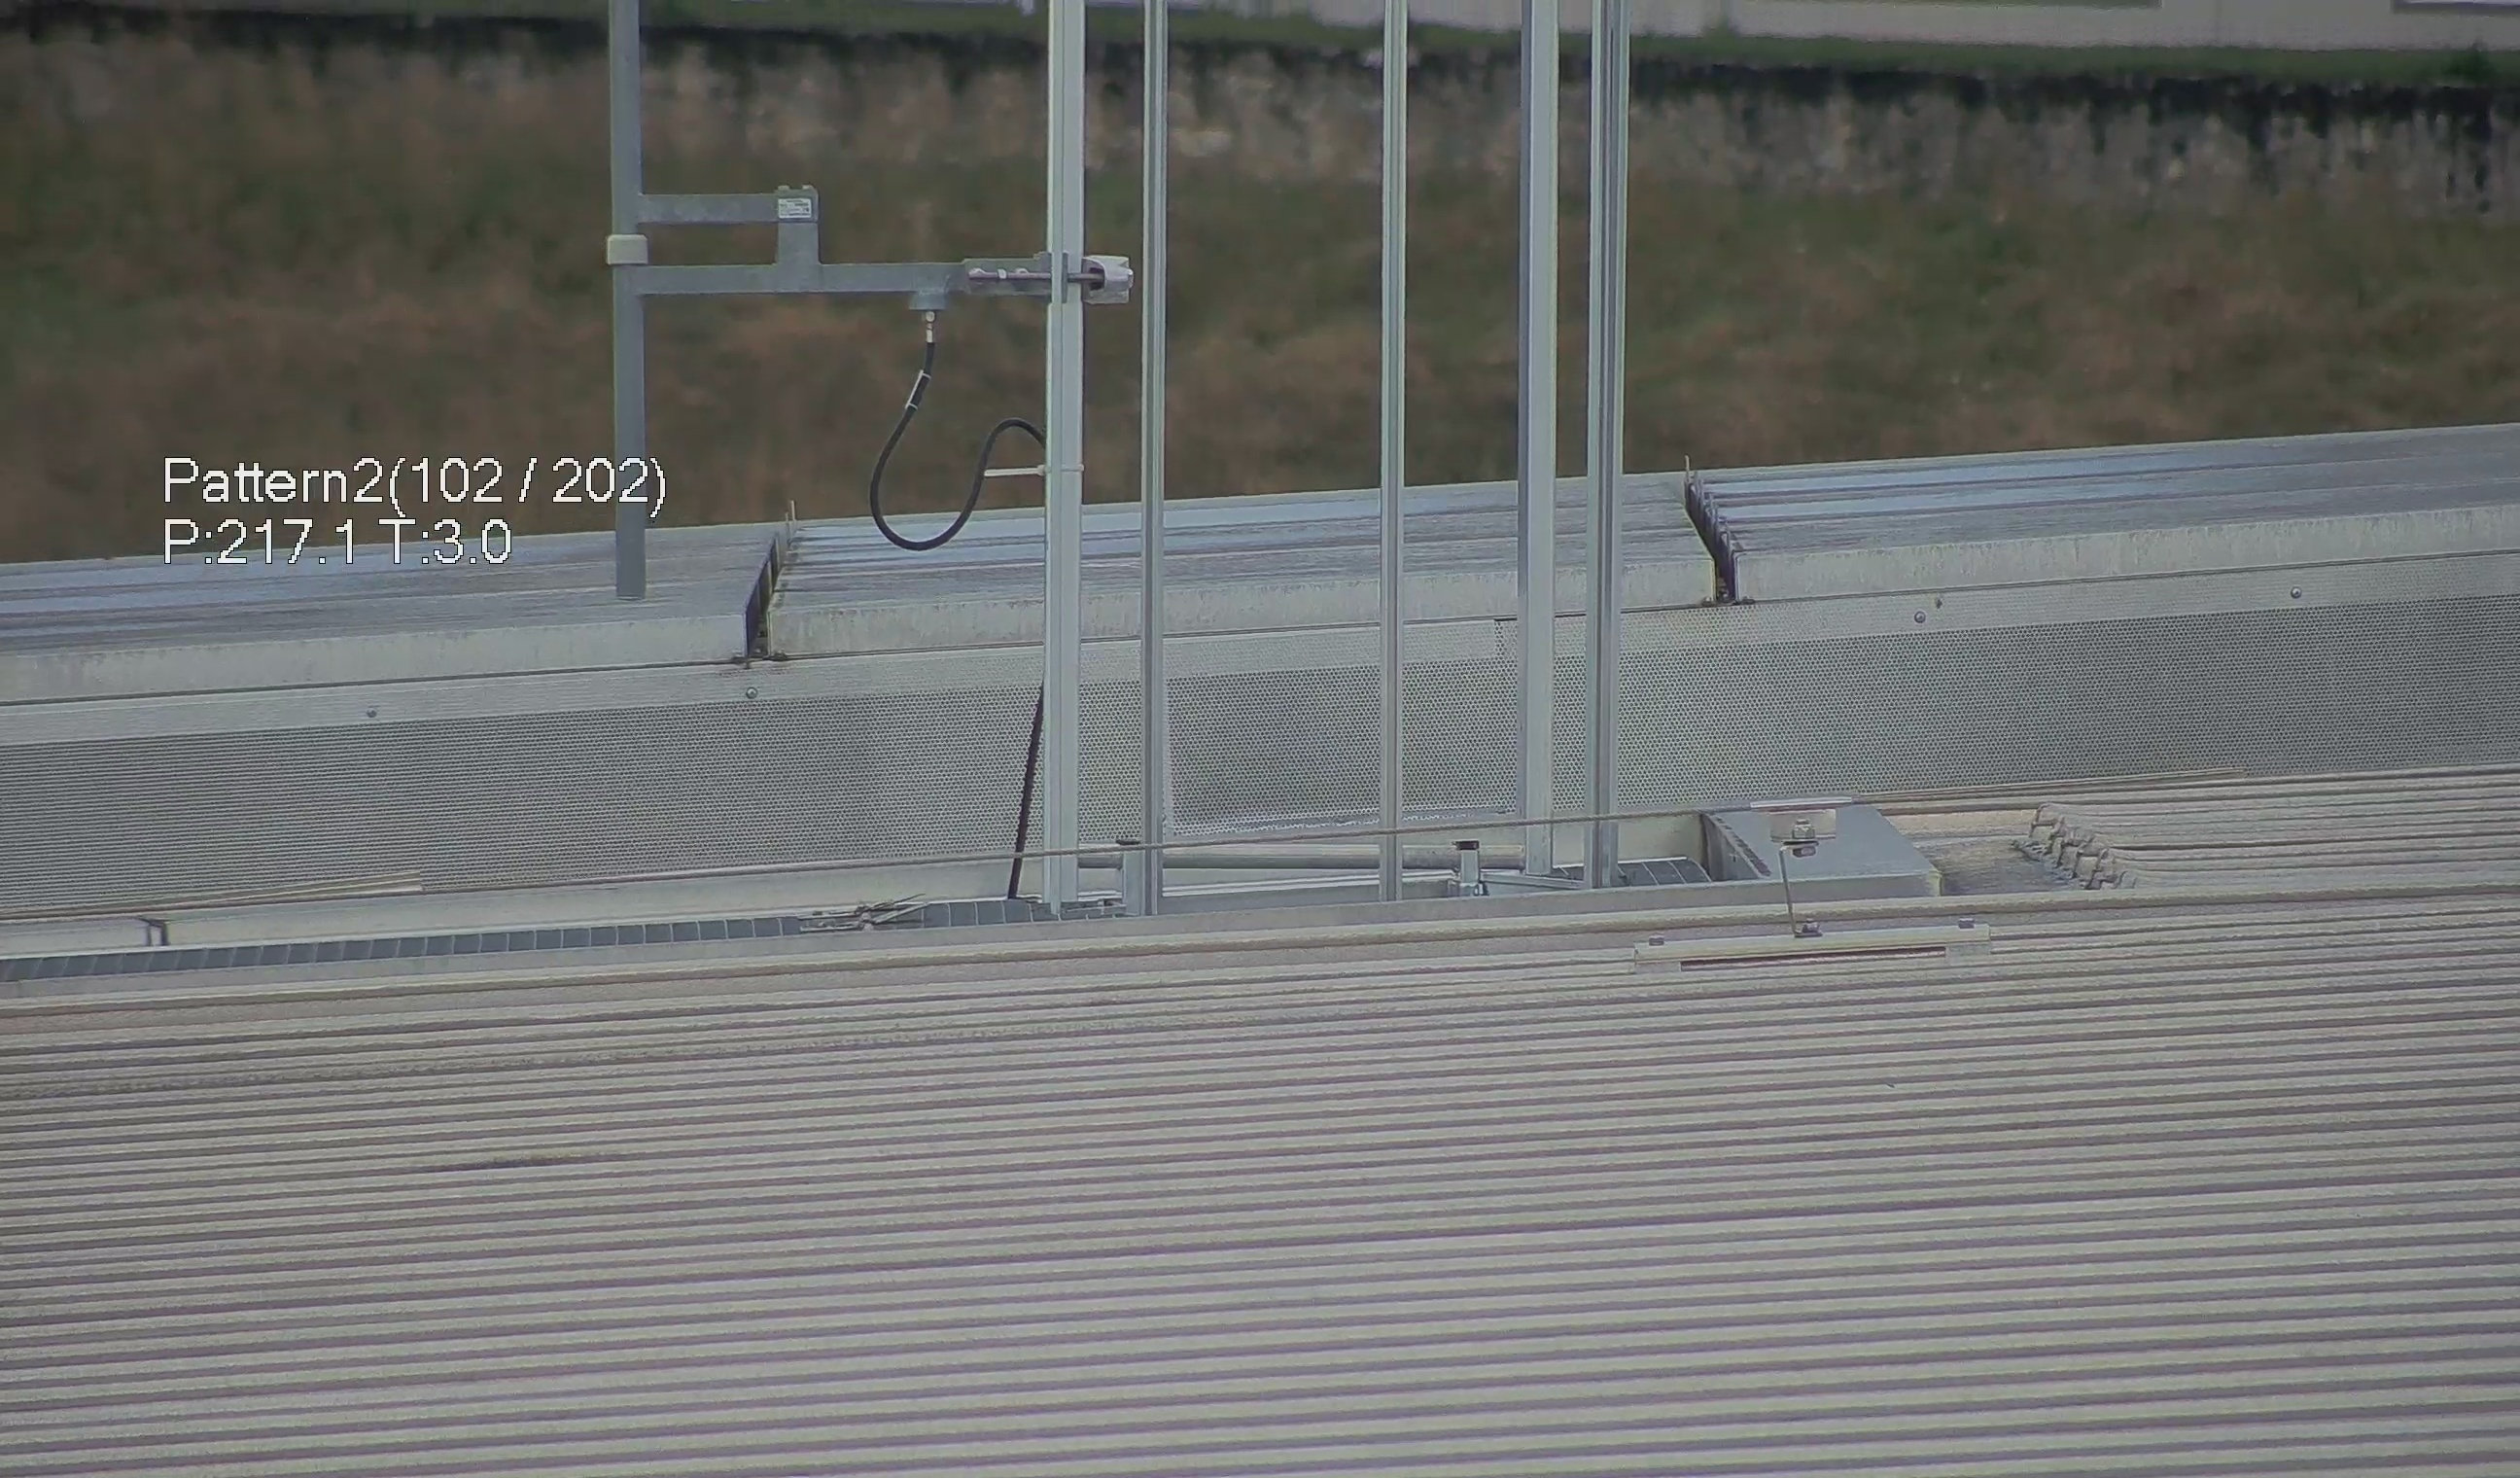Other: (1672, 450, 1759, 614)
